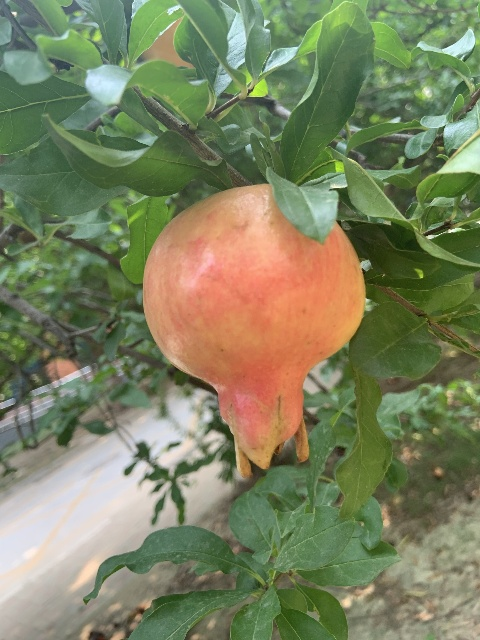ripe: (143, 184, 364, 477)
